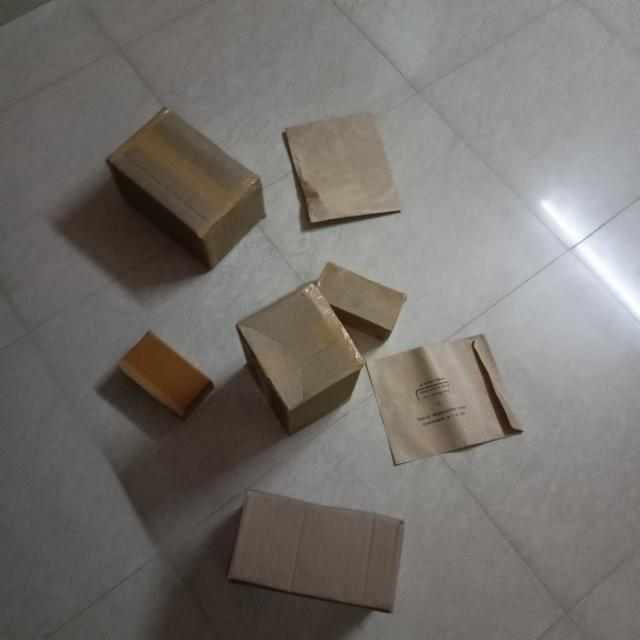box: (106, 112, 268, 271), (229, 492, 408, 616), (367, 336, 522, 469), (237, 283, 365, 436), (283, 114, 404, 233), (118, 335, 215, 421)
